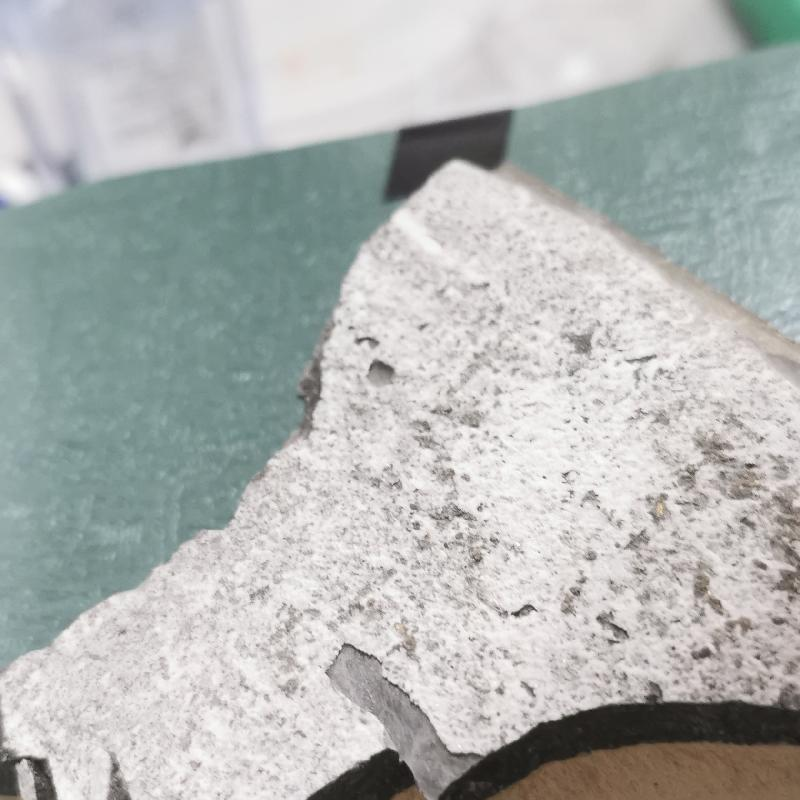tile: (3, 155, 799, 799)
